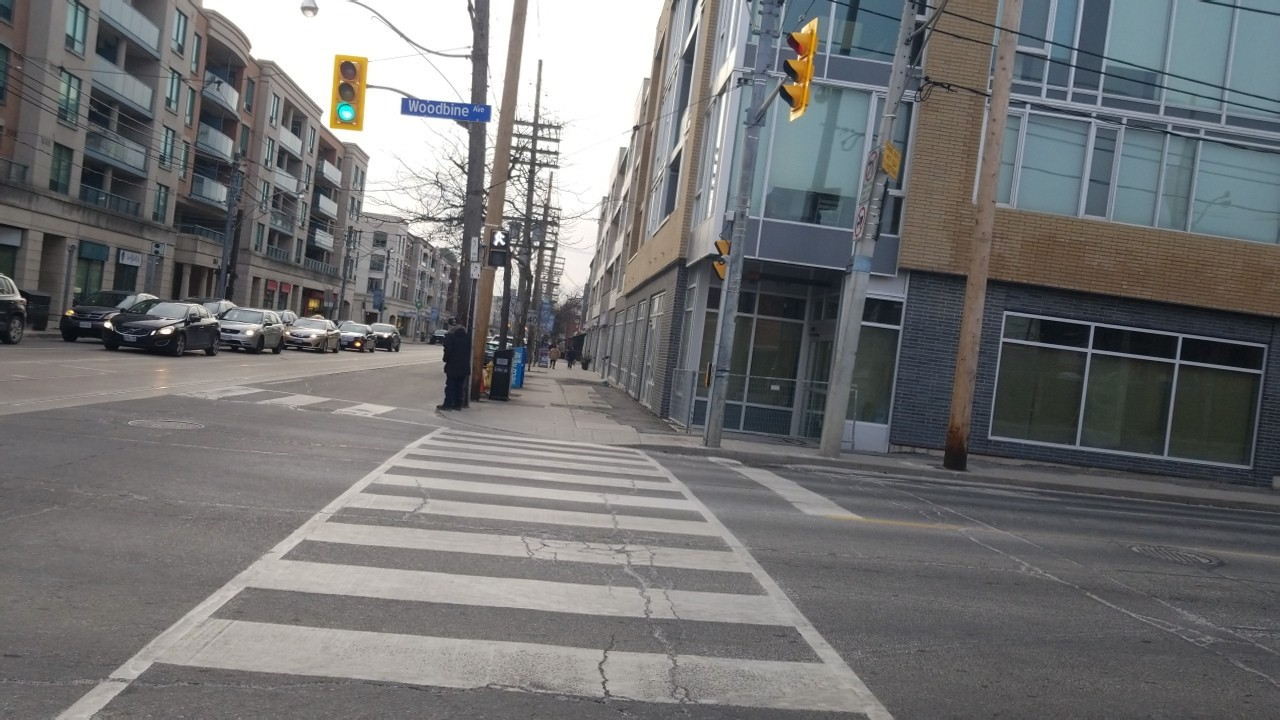light: (486, 224, 511, 270)
